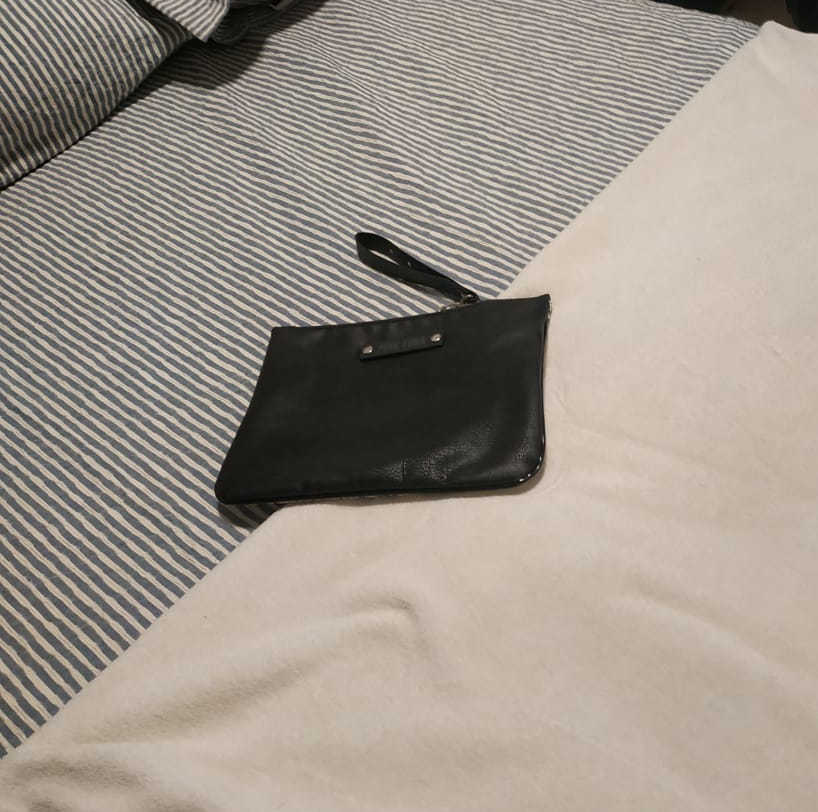cartera: (172, 170, 634, 650)
cuero: (224, 238, 594, 569)
